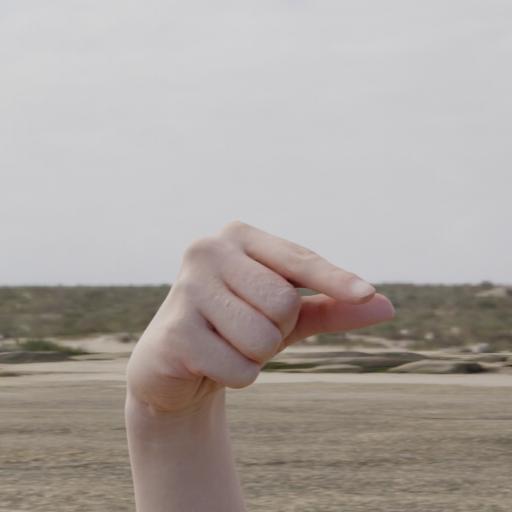G: (86, 182, 454, 512)
